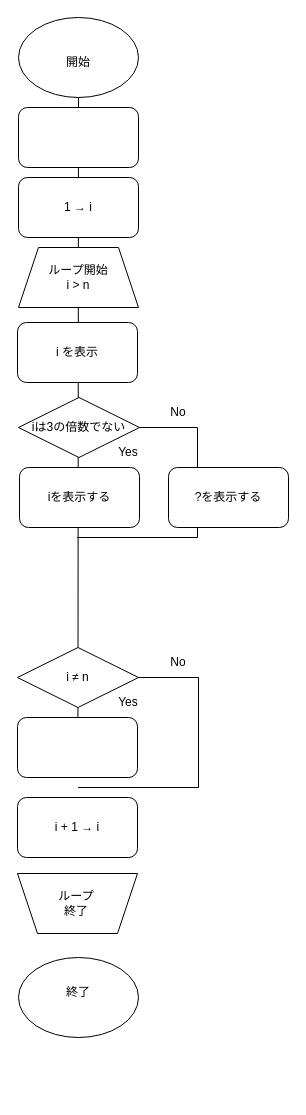
Some shapes in this 306 by 1115 pixel diagram are drawn without their labels. The centre of each missing label's shape, as x and y in pixels:
",を加える" goes at (77,747).
"20 → n" goes at (78,137).
